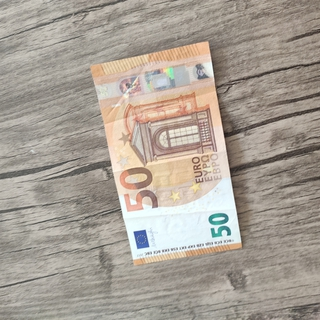50EUROFront: (87, 39, 244, 267)
